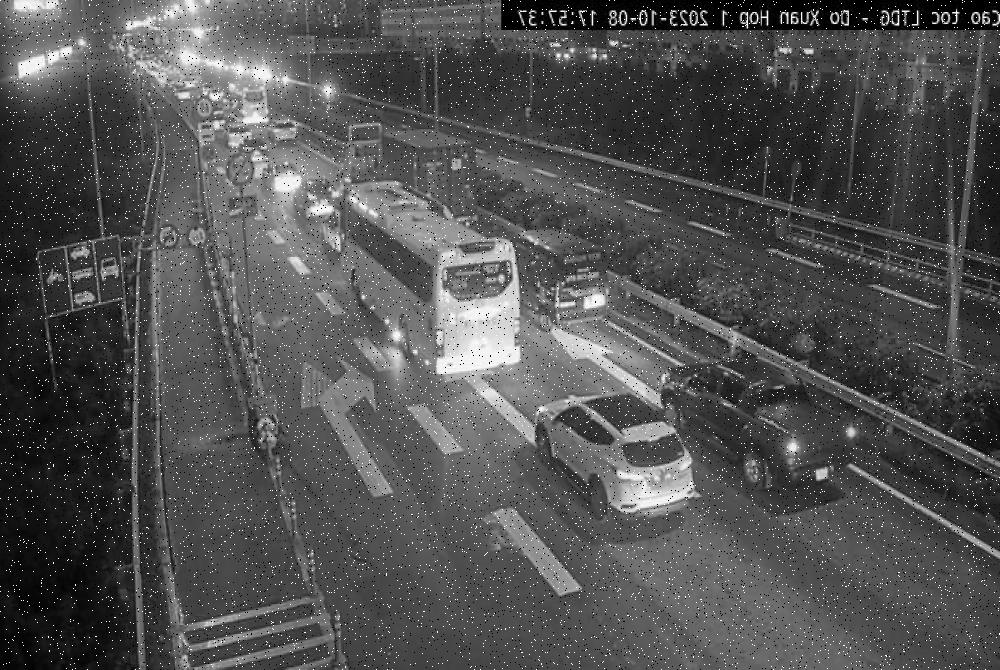bus: (324, 177, 532, 378)
car: (518, 380, 721, 533), (659, 356, 883, 488), (504, 215, 615, 372)
